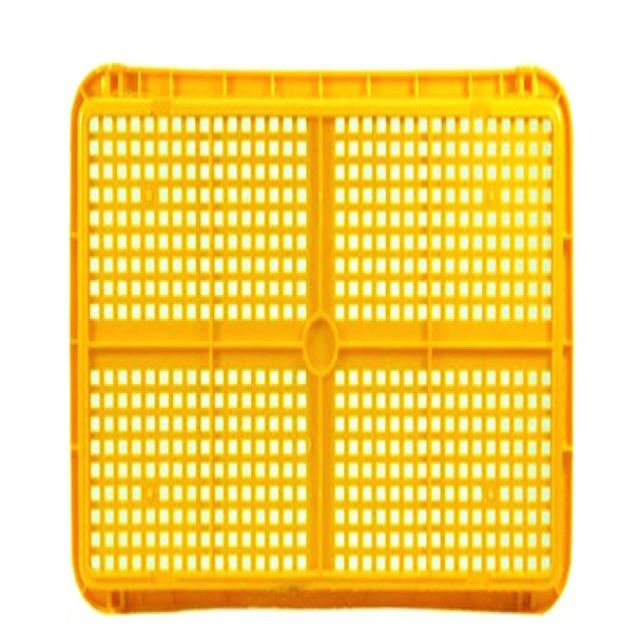basket: (71, 62, 575, 612)
